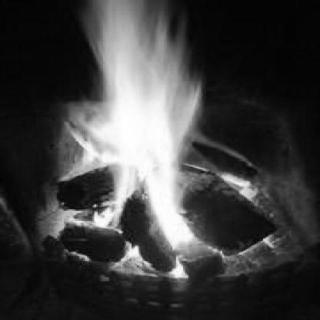Fire: (46, 3, 268, 251)
